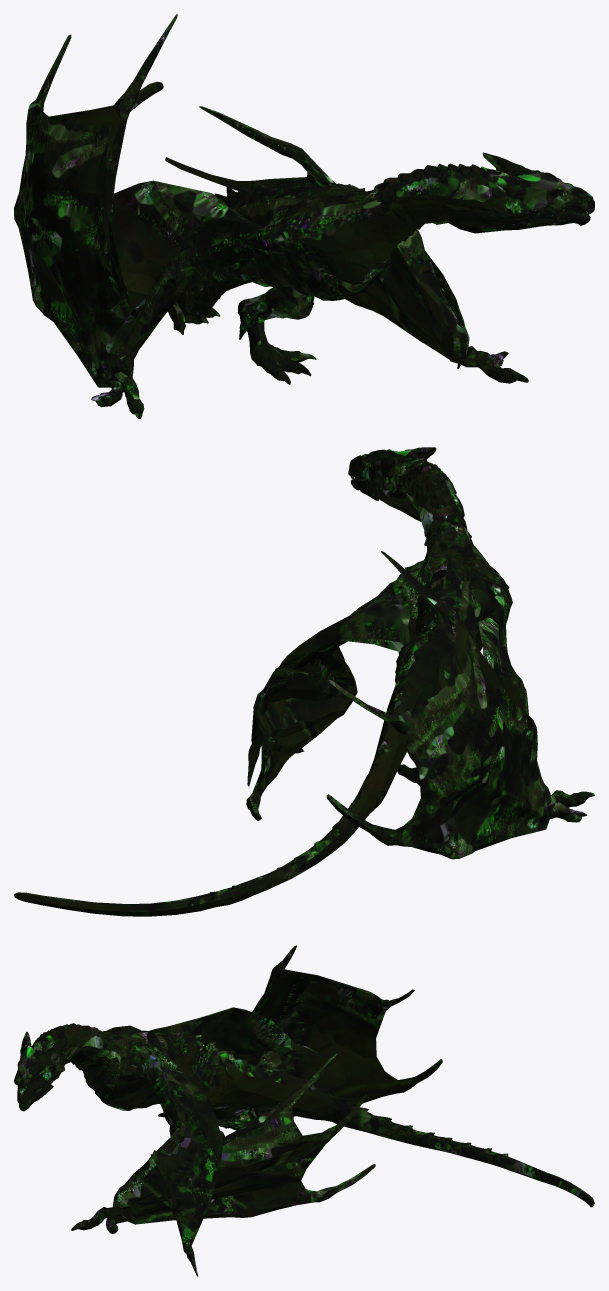
File: frame_0004_uv.obj
3 views of the same model, one above another, from view 1: azimuth 30°, elevation 25°; view 2: azimuth 150°, elevation 25°; view 3: azimuth 270°, elevation 25° (orthographic). The views are drawn at different scales.
Parts seen in each view (by area): view 1: pMesh1; view 2: pMesh1; view 3: pMesh1.
Boxes of the visible parts, left/top/right/bottom form: pMesh1: left=14, top=14, right=594, bottom=418; pMesh1: left=14, top=447, right=594, bottom=916; pMesh1: left=14, top=945, right=594, bottom=1276.
Size of the model in its own units: 1.19 by 1.07 by 2.19.
